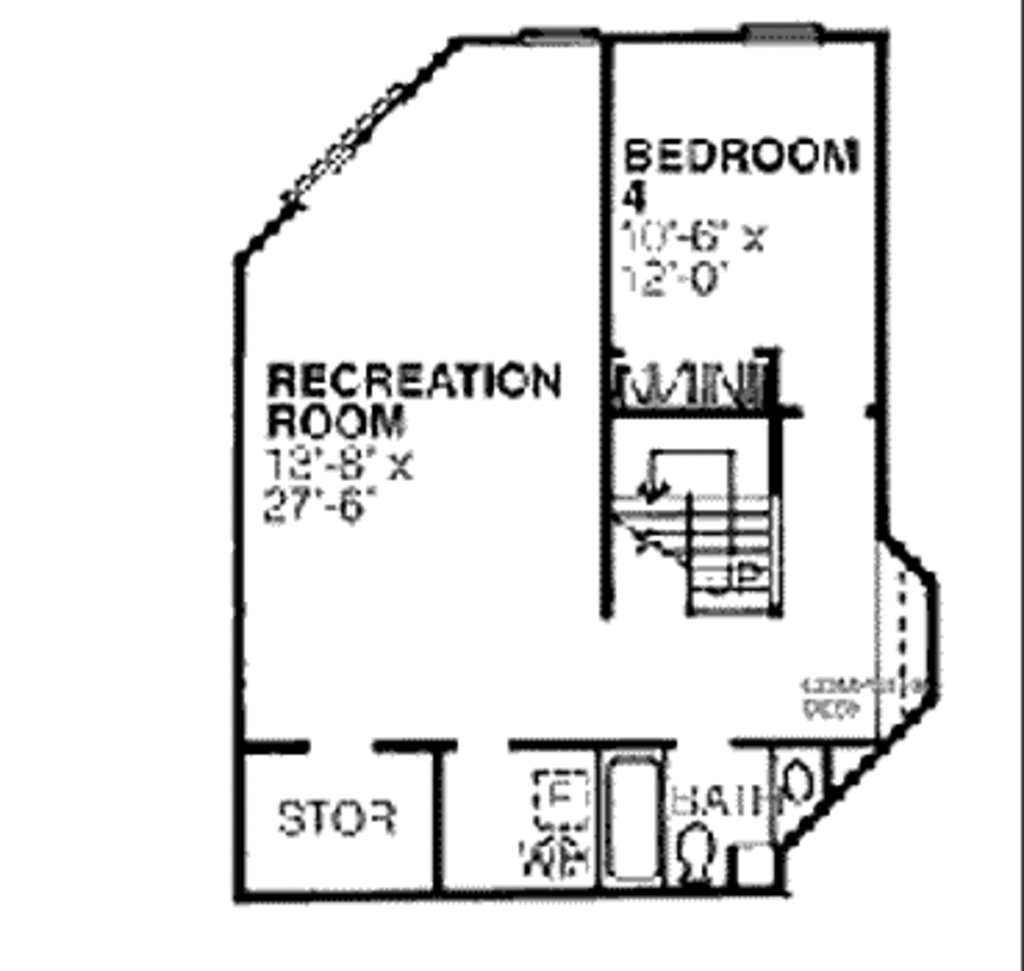large_sink: (672, 818, 716, 886)
small_sink: (769, 747, 827, 833)
stairs: (607, 412, 785, 636)
tub: (583, 745, 666, 889)
window: (727, 20, 825, 51), (519, 23, 594, 45)
